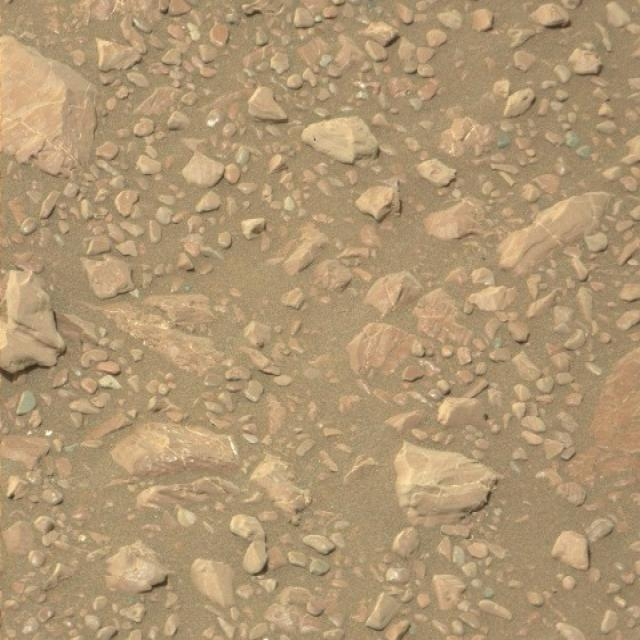rock: (0, 35, 98, 179), (396, 445, 504, 520), (0, 262, 66, 384)
